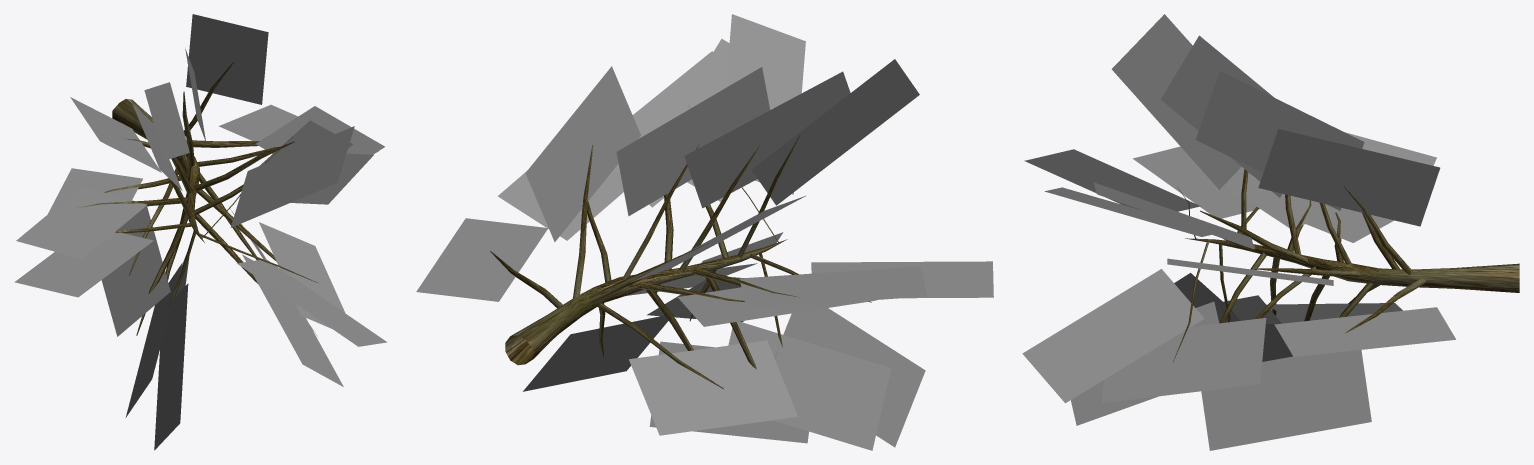
File: great_succ_bb3_e.obj
The picture shows the model from 3 angles, left to right: view 1: azimuth 30°, elevation 25°; view 2: azimuth 150°, elevation 25°; view 3: azimuth 270°, elevation 25°; orthographic projection. The views are drawn at different scales.
Visible parts, largest first — view 1: plant_pmat3, plant_pmat2, plant_pmat1; view 2: plant_pmat3, plant_pmat2, plant_pmat1; view 3: plant_pmat3, plant_pmat2, plant_pmat1.
Boxes of the visible parts, x1,y1,x2,y2 form: plant_pmat3: (14,14,387,450); plant_pmat2: (79,62,318,335); plant_pmat1: (112,99,204,242); plant_pmat3: (416,14,993,450); plant_pmat2: (490,106,871,389); plant_pmat1: (505,239,787,365); plant_pmat3: (1022,14,1455,450); plant_pmat2: (1173,169,1426,362); plant_pmat1: (1185,238,1519,292).
Size of the model in its own units: 3.93 by 3.15 by 3.83.
